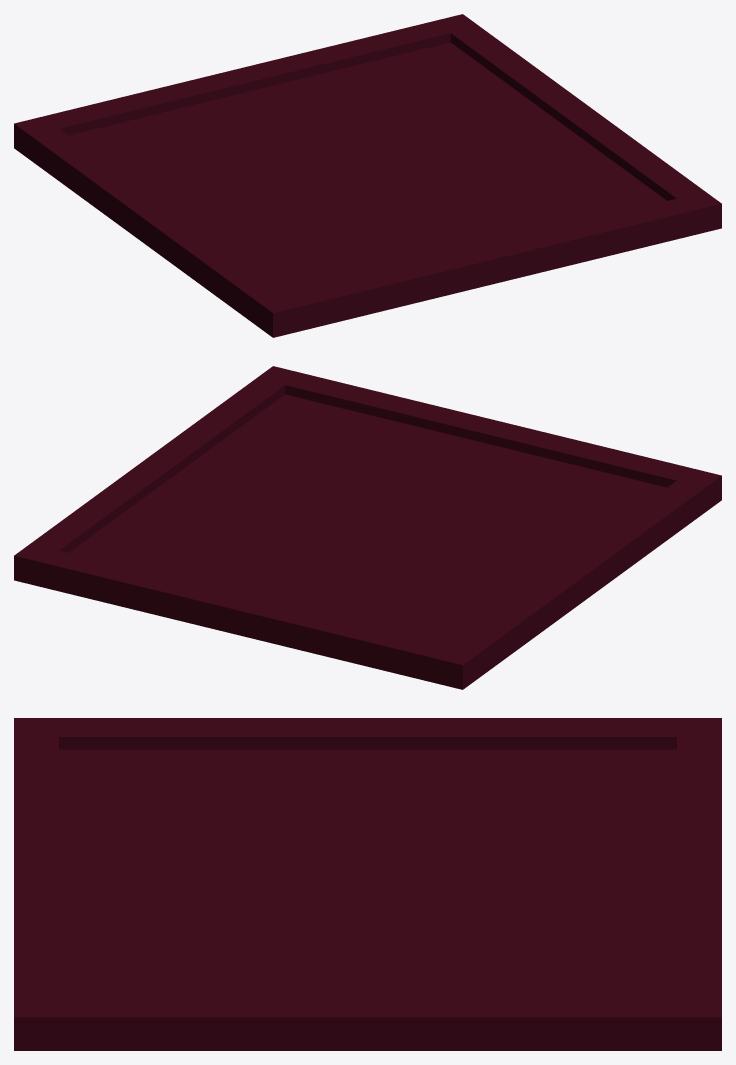
The model's file is Prop_Bar_Coaster_v01.fbx.
3 renders of one model, top to bottom at view 1: azimuth 30°, elevation 25°; view 2: azimuth 150°, elevation 25°; view 3: azimuth 270°, elevation 25°, orthographic. The views are drawn at different scales.
Visible parts, largest first — view 1: Rest_Bar_Set04_Coaster; view 2: Rest_Bar_Set04_Coaster; view 3: Rest_Bar_Set04_Coaster.
Boxes of the visible parts, x1,y1,x2,y2 form: Rest_Bar_Set04_Coaster: (14,14,721,337); Rest_Bar_Set04_Coaster: (14,366,721,689); Rest_Bar_Set04_Coaster: (14,718,721,1050).
Bounding box in the file's own units: 3.52 × 0.1855 × 3.52.
